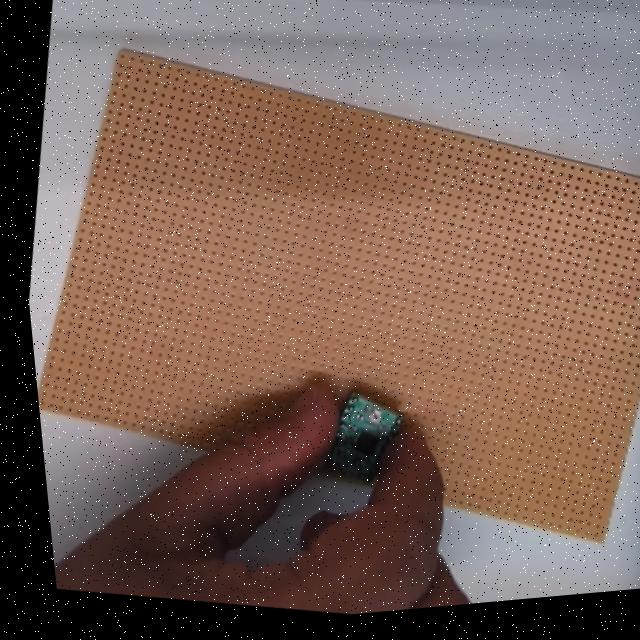Chip: (316, 372, 413, 488)
